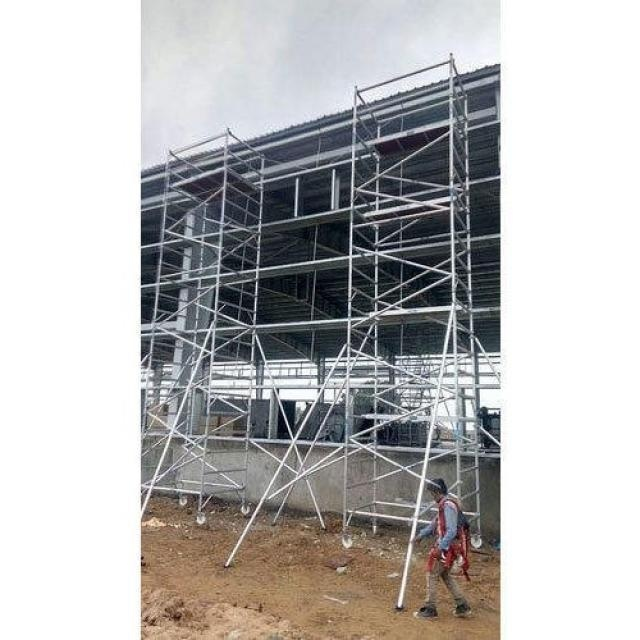Arnes_seguridad: (428, 493, 470, 576)
